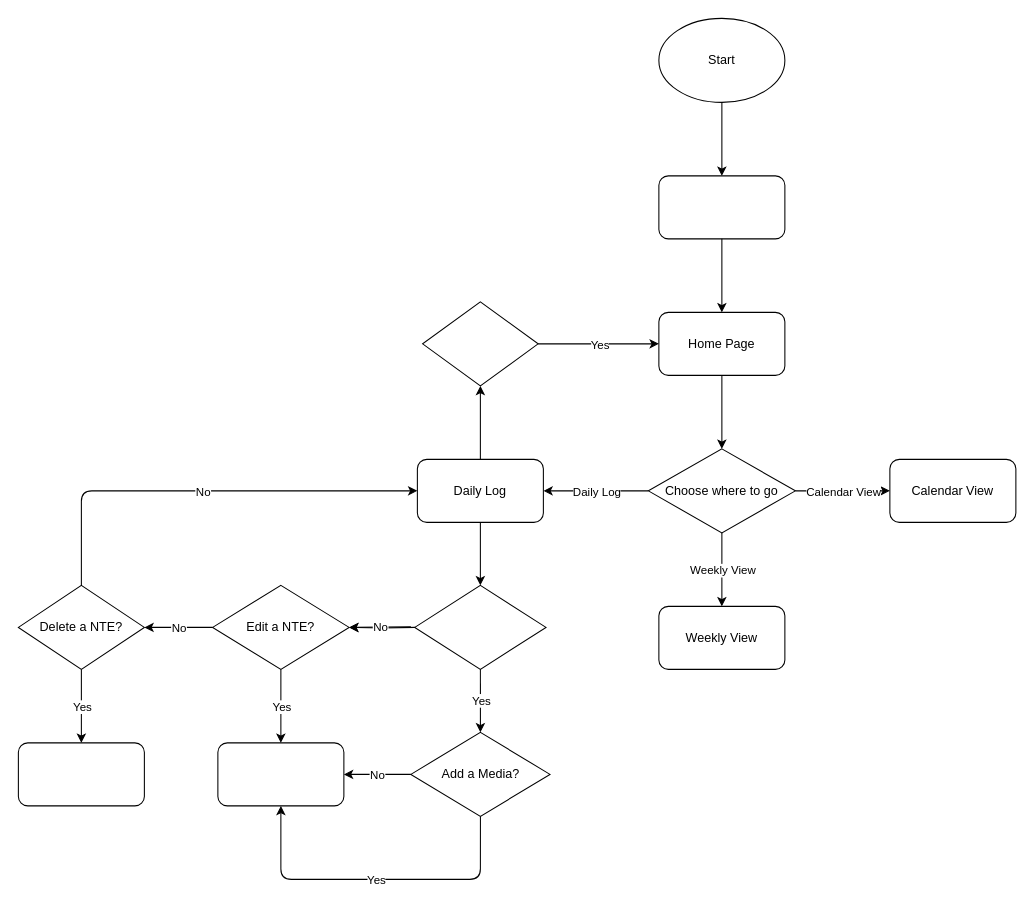
Some shapes in this 1034 by 906 pixel diagram are drawn without their labels. The centre of each missing label's shape, as x and y in pixels:
"Add a NTE?" goes at (480,626).
"Delete NTE" goes at (80,774).
"Enter the Website" goes at (721,207).
"Go Back to Home Page?" goes at (480,343).
"Save NTE" goes at (280,774).
